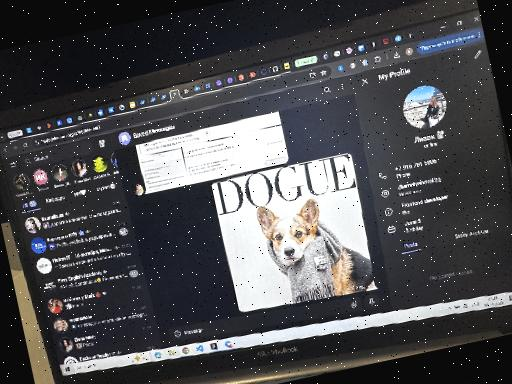telegram: (9, 51, 512, 374)
